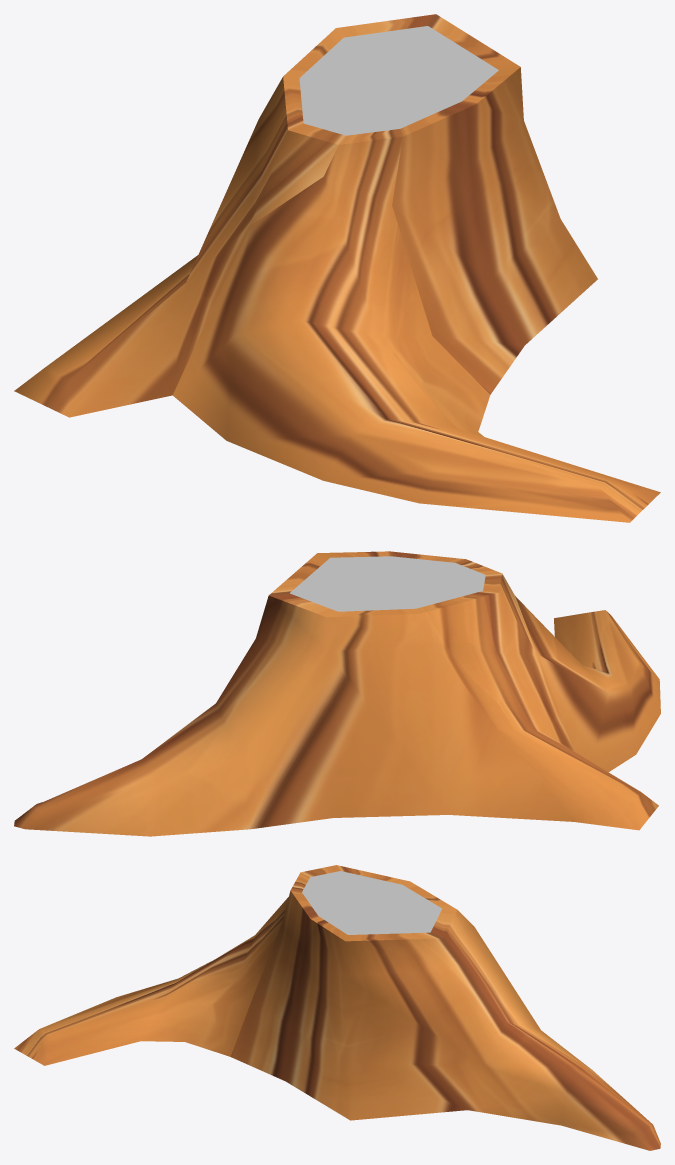
The model's file is SM_ENV_TREE_stump_v1_02.fbx.
3 views of the same model, one above another, from view 1: azimuth 30°, elevation 25°; view 2: azimuth 150°, elevation 25°; view 3: azimuth 270°, elevation 25° (orthographic). The views are drawn at different scales.
Visible parts, largest first — view 1: SM_ENV_TREE_stump_v1_02; view 2: SM_ENV_TREE_stump_v1_02; view 3: SM_ENV_TREE_stump_v1_02.
Boxes of the visible parts, <box> form: SM_ENV_TREE_stump_v1_02: <box>14,14,660,522</box>; SM_ENV_TREE_stump_v1_02: <box>14,551,660,836</box>; SM_ENV_TREE_stump_v1_02: <box>14,865,660,1150</box>.
Bounding box in the file's own units: 226 × 78.1 × 299.
